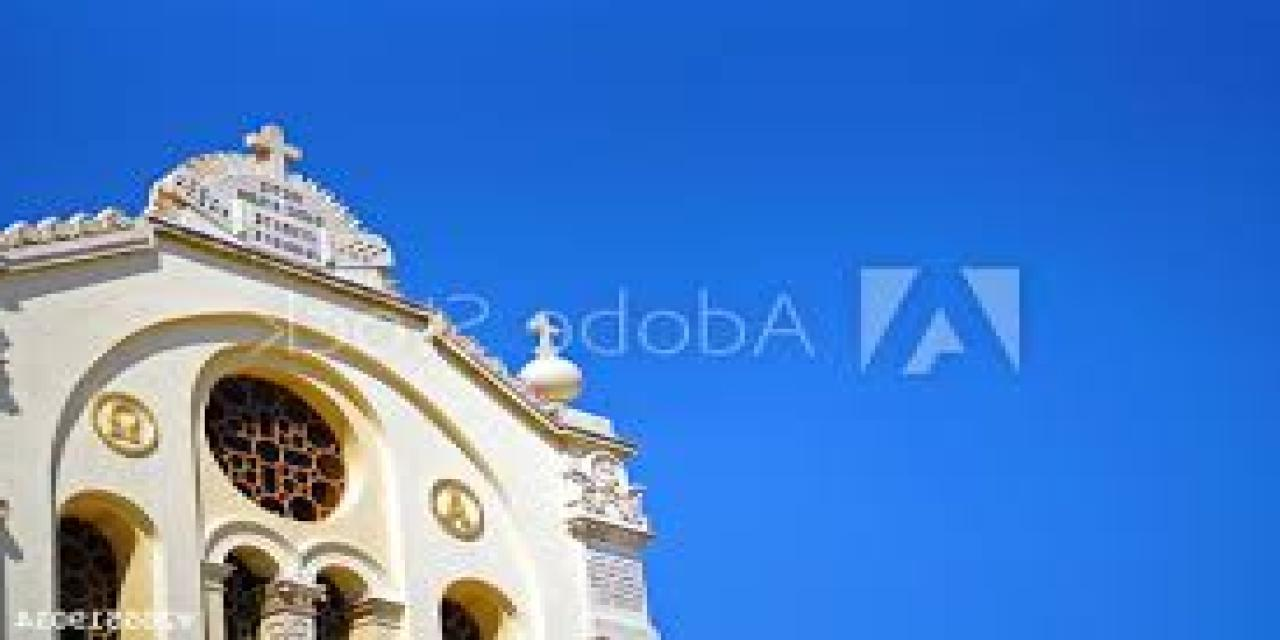Agios Minas: (1, 120, 657, 640)
